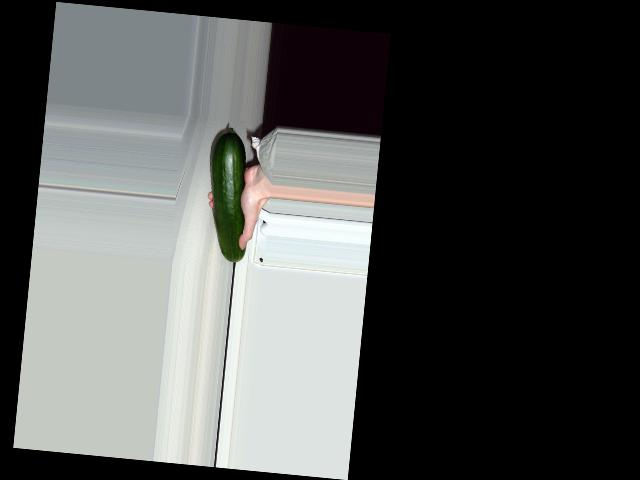cucumber: (200, 126, 256, 263)
